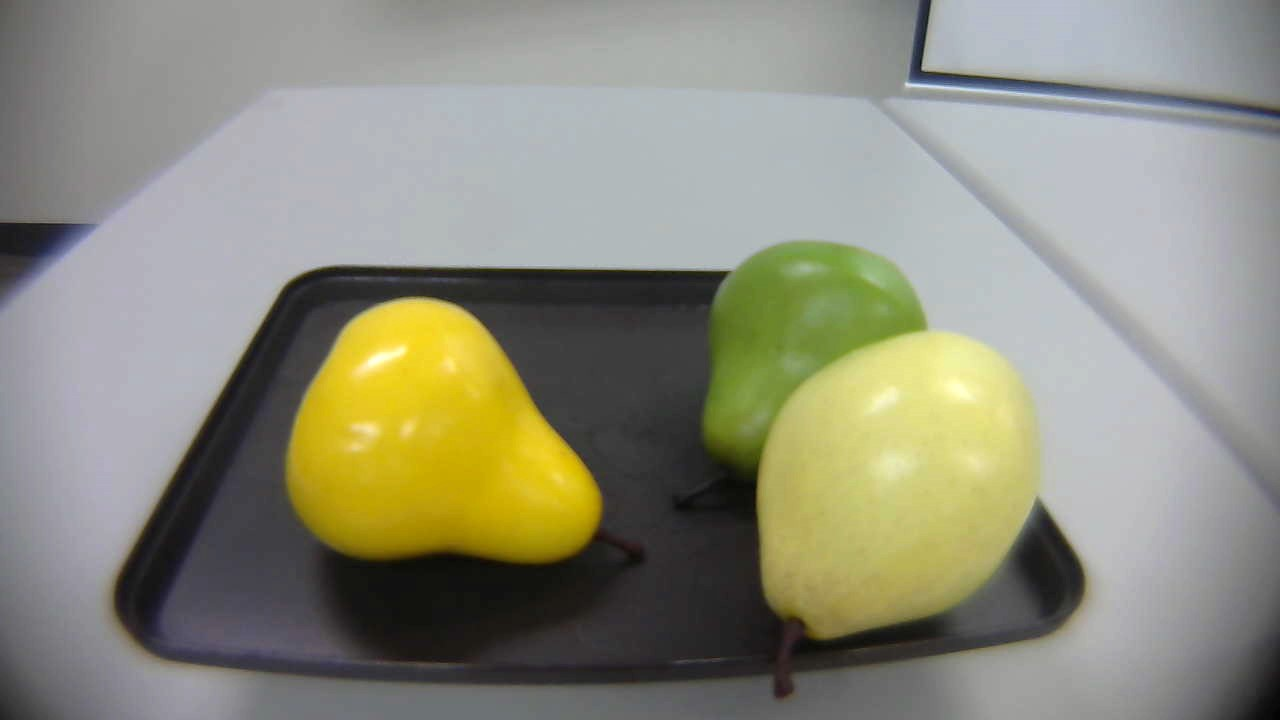green pear: (678, 227, 931, 514)
western pear: (723, 322, 1067, 701)
yellow pear: (260, 295, 667, 571)
